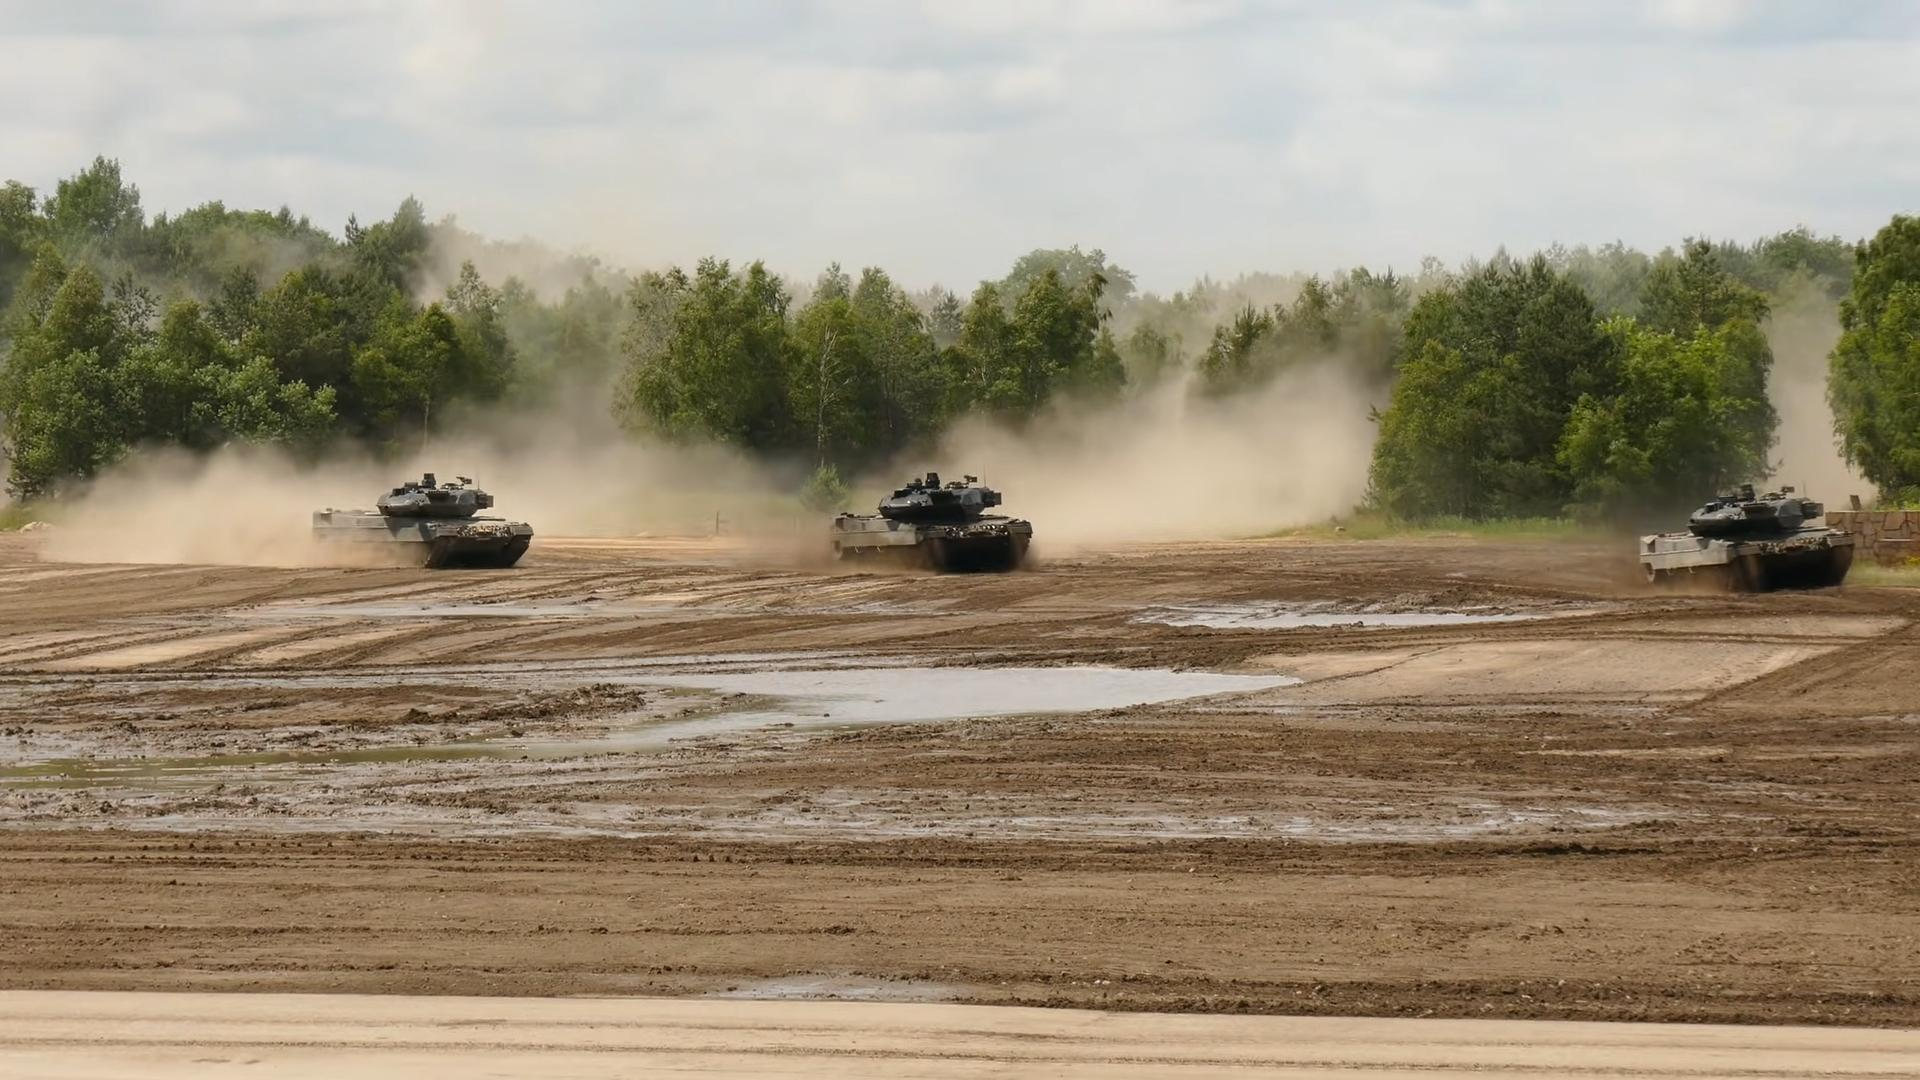tank: (1639, 481, 1855, 591), (313, 473, 534, 568), (829, 471, 1035, 572)
